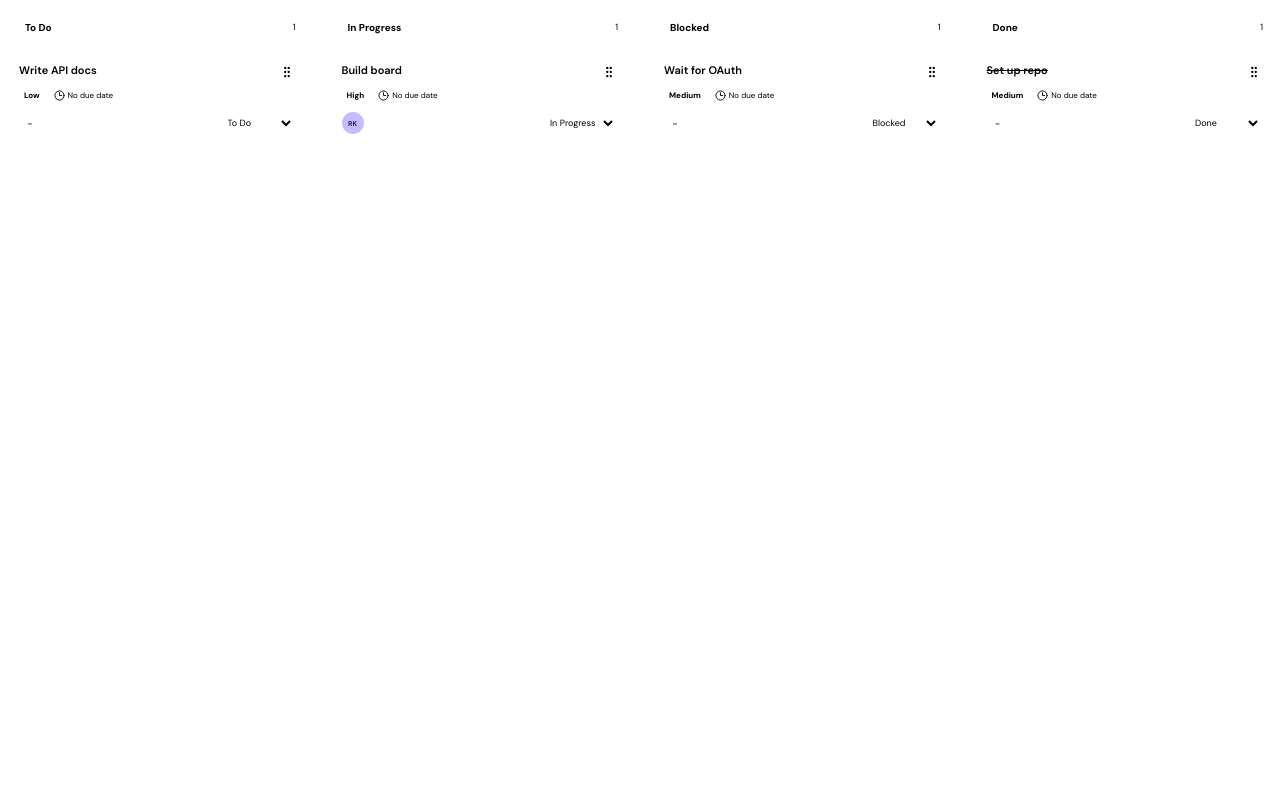
KanbanBoard: US-28 move tasks › rolls back after a 403 too (e.g. role changed to Viewer meanwhile)
Select "Done" in the dropdown named "Move Write API docs to" at (256, 123), box [220,111,294,135]
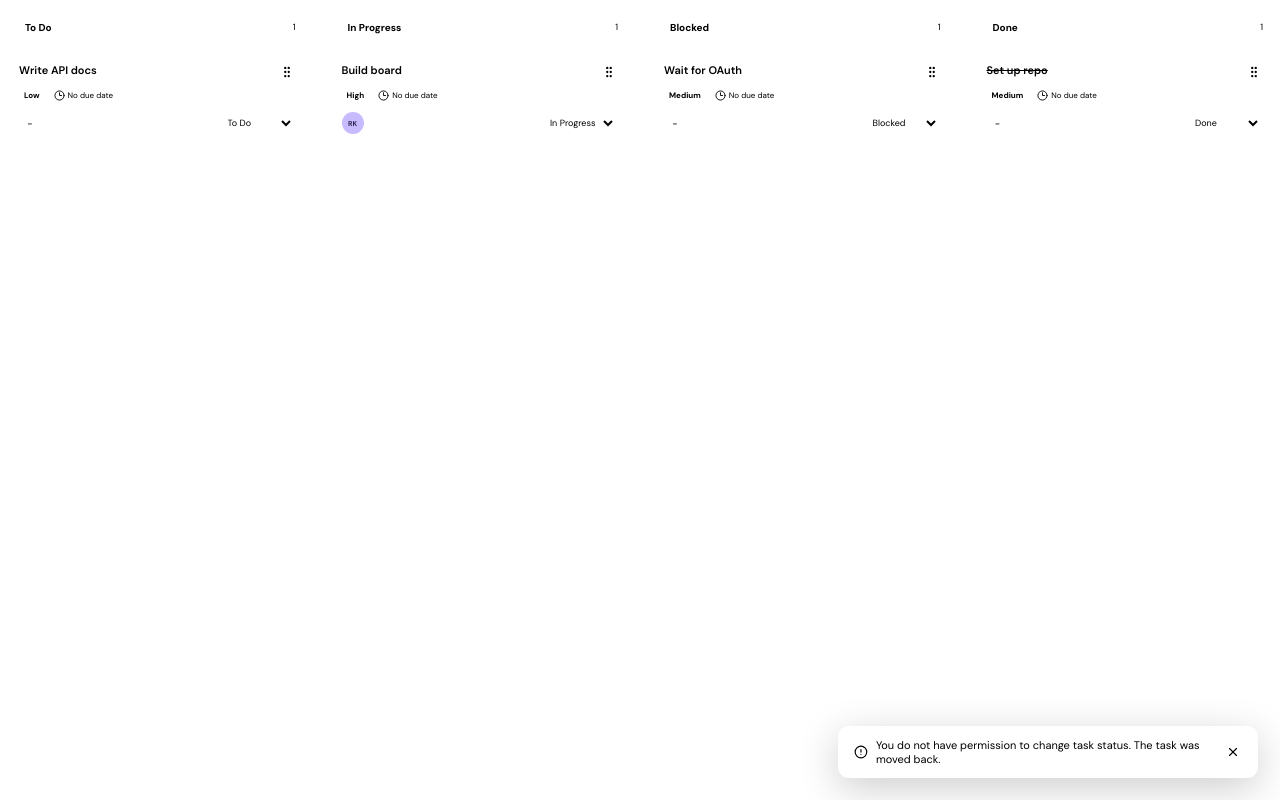
Check: the text "To Do" is shown, box [25,20,52,34]
Check: the message "You do not have permission to change task status. The task was moved back." is shown, box [838,726,1258,778]
